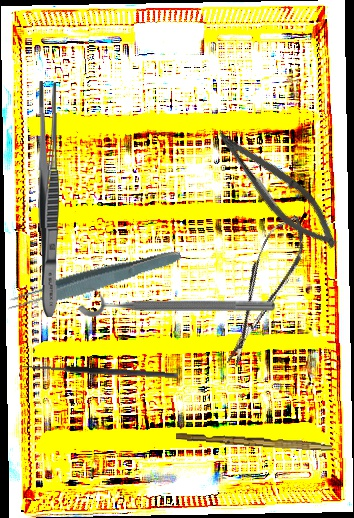Dressing Forceps: (34, 80, 63, 318)
Fixation Ring: (78, 285, 275, 317)
Hook Surgical: (18, 362, 179, 387)
Micro Scissor: (200, 120, 351, 259), (209, 208, 317, 372)
Scalpel Handle: (175, 431, 333, 452)
Tissue Forceps: (3, 243, 184, 316)
